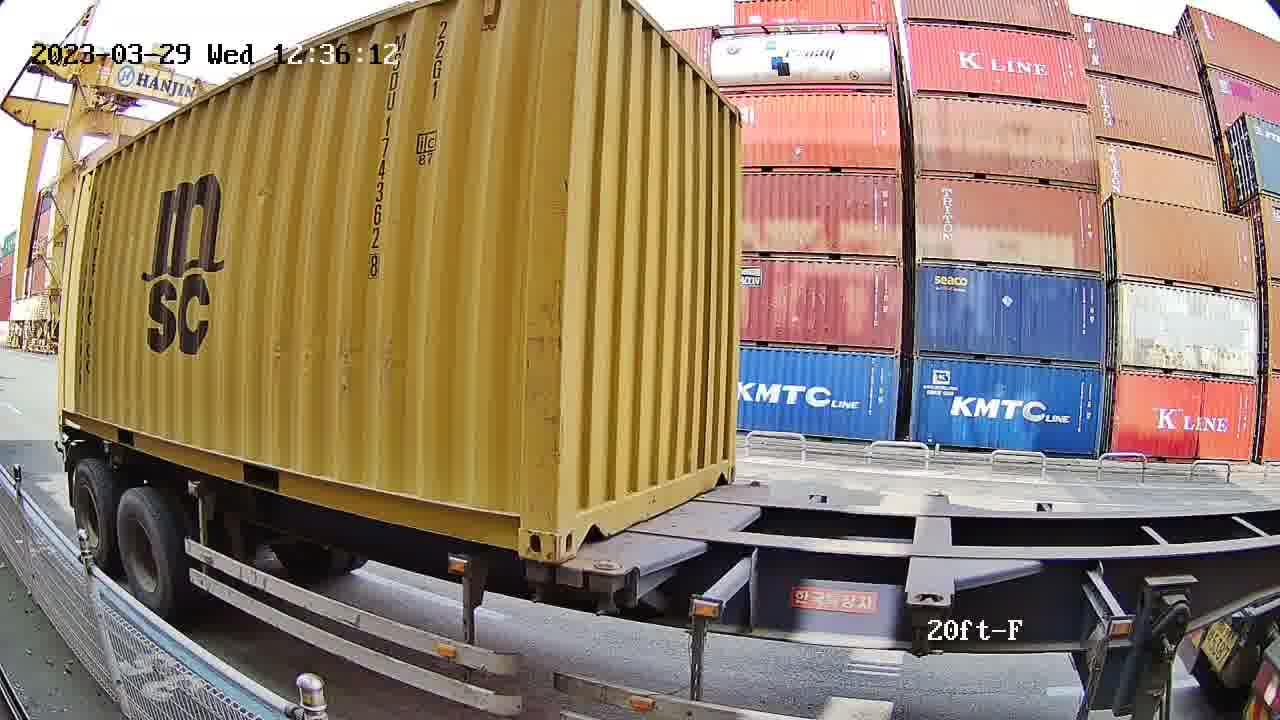Chassis: (589, 484, 764, 575)
Cone: (591, 561, 624, 618), (523, 562, 553, 604)
Hole_L: (557, 484, 607, 562)
Hole_R: (492, 488, 557, 566), (711, 442, 736, 492)
Tire: (116, 493, 172, 611), (70, 463, 112, 569)
